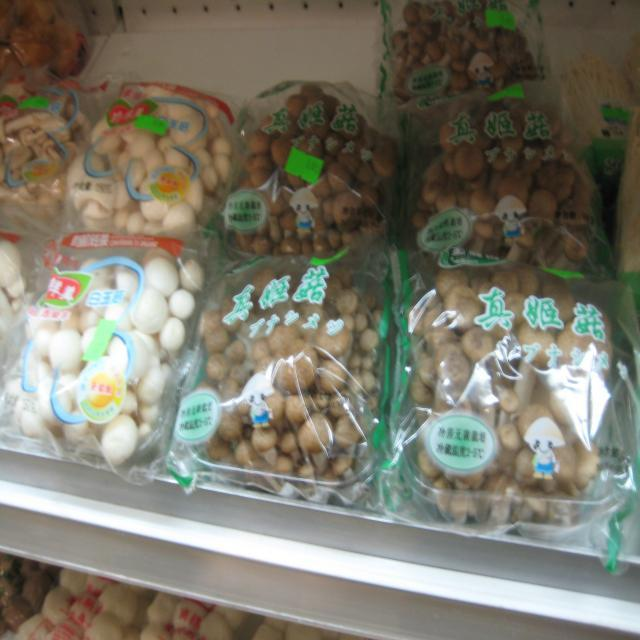Hypsizygus marmoreus: (418, 276, 610, 497), (13, 246, 199, 463), (197, 268, 373, 473), (422, 112, 603, 269), (238, 90, 380, 262), (74, 84, 232, 230), (381, 0, 540, 100)
